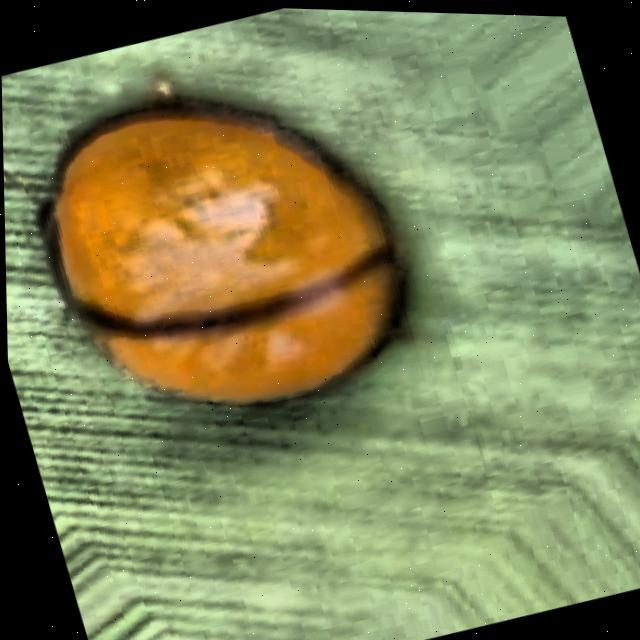Ladybug: (0, 10, 452, 491)
